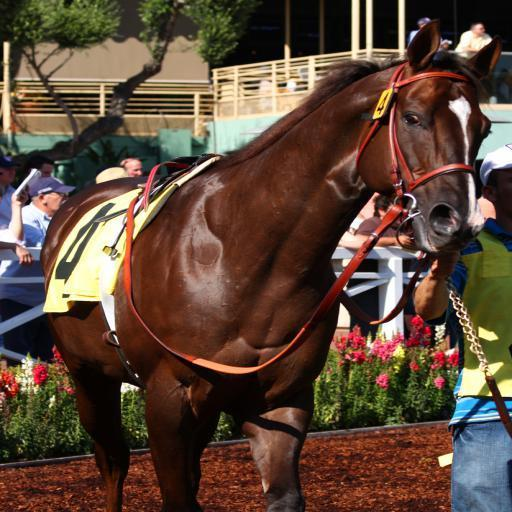horse: (36, 18, 504, 512)
